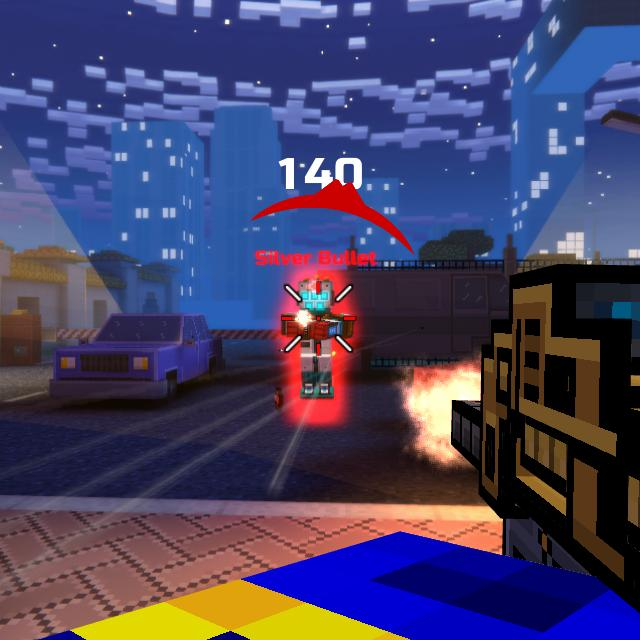Enemy: (281, 275, 355, 399)
